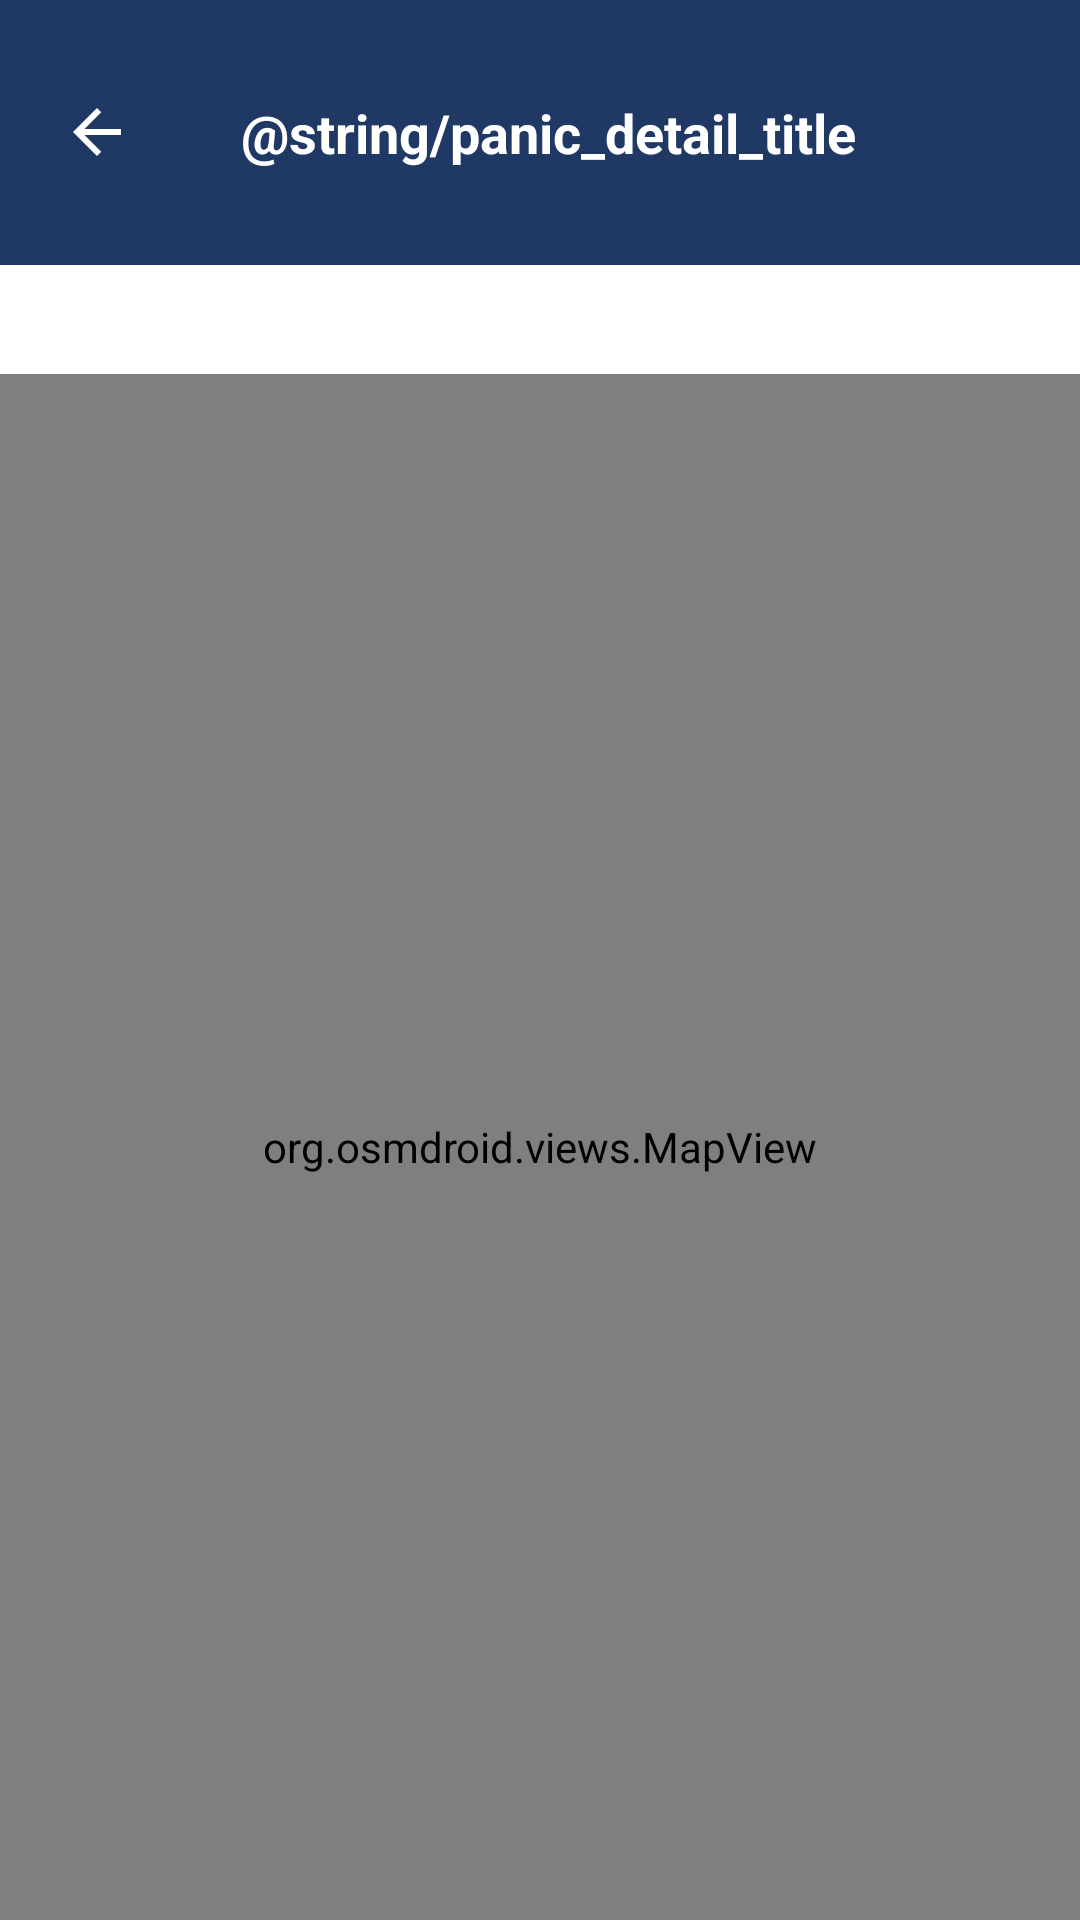

Screen size 1080 x 1920. Icon name, then its center in pixels as (x=x, y=y):
Back: (x=97, y=132)
